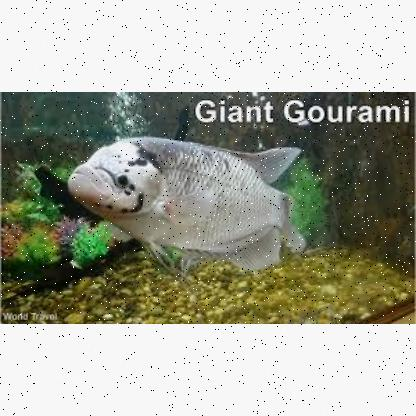gurame: (67, 136, 298, 274)
